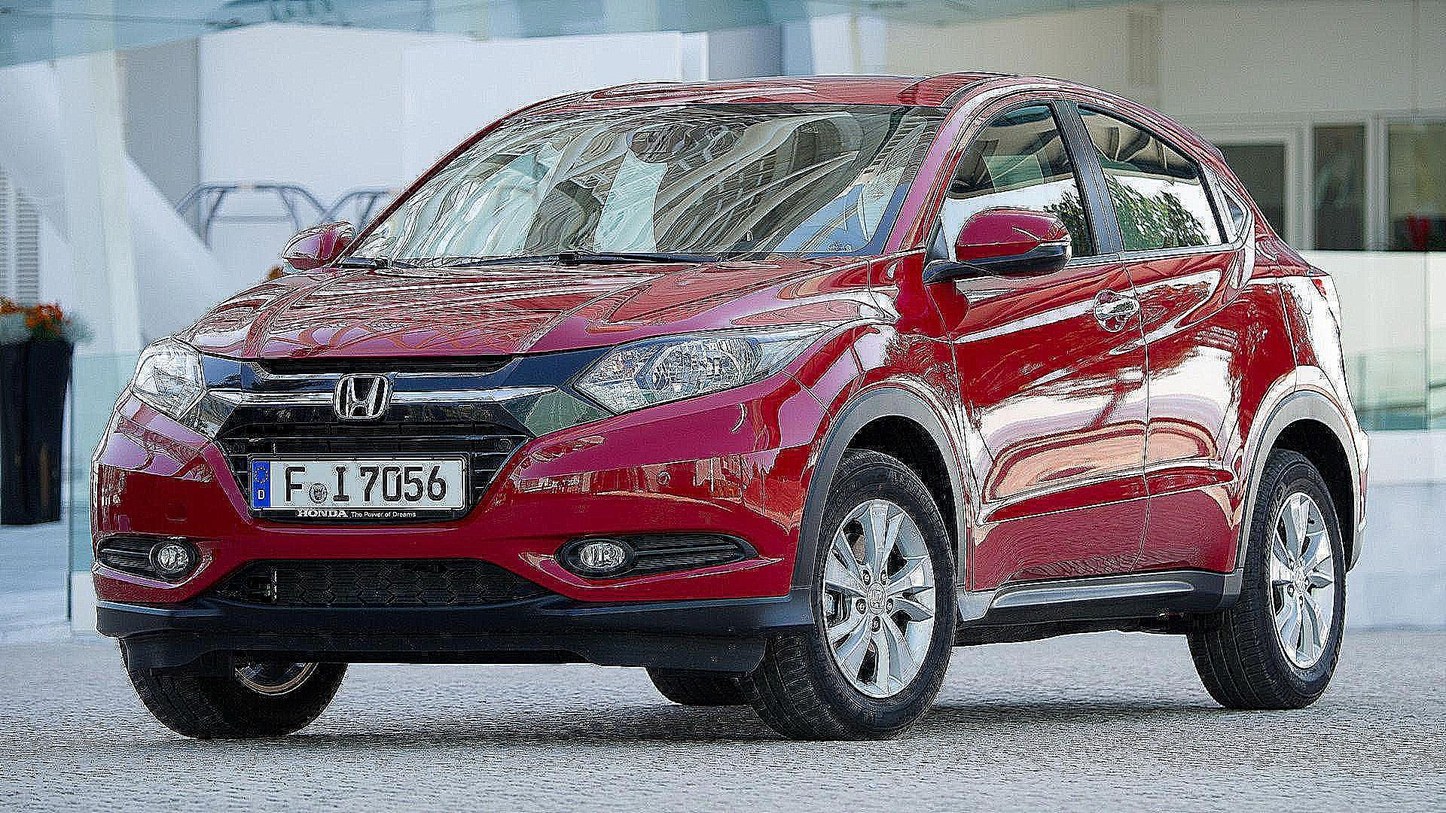Car hood: (155, 254, 883, 365)
Fender - -F-L-: (785, 274, 988, 619)
Fender - -R-L-: (1214, 187, 1331, 601)
Front bumper: (83, 407, 817, 672)
Headlight - -L-: (569, 316, 832, 415)
Headlight - -R-: (128, 336, 206, 425)
Passenger-s door - -F-L-: (910, 58, 1154, 647)
Passenger-s door - -R-L-: (1051, 60, 1273, 637)
Side bumper - -L-: (936, 527, 1259, 659)
Side mirror - -L-: (920, 203, 1074, 290)
Side mirror - -R-: (275, 221, 358, 270)
